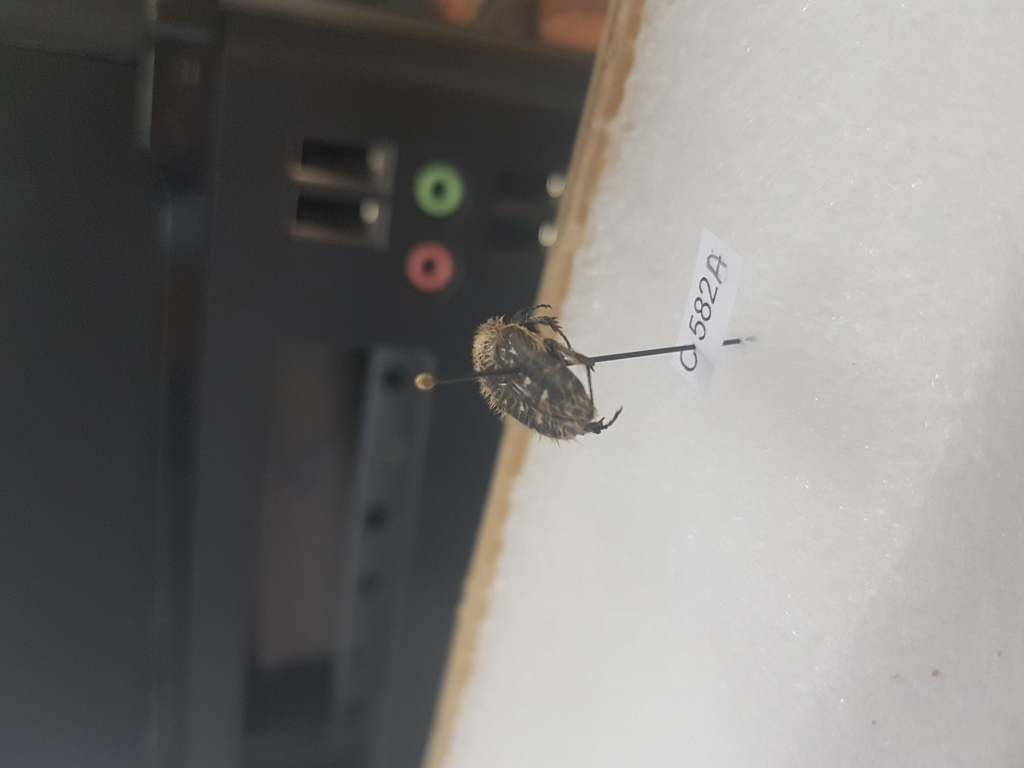Tropinota_hirta: (471, 294, 625, 446)
